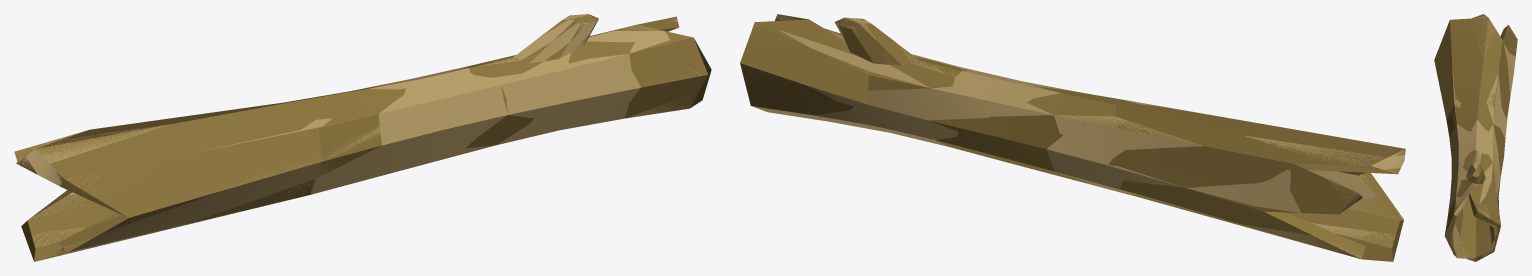
Rendered from wood.fbx.
3 views of the same model, side by side, from view 1: azimuth 30°, elevation 25°; view 2: azimuth 150°, elevation 25°; view 3: azimuth 270°, elevation 25° (orthographic). The views are drawn at different scales.
Parts seen in each view (by area): view 1: WOOD, TUNNEL; view 2: WOOD, TUNNEL; view 3: WOOD, TUNNEL.
Part boxes in pixels (x1,y1,x2,y2): WOOD: (14,14,711,261); TUNNEL: (15,14,707,256); WOOD: (740,16,1405,261); TUNNEL: (740,14,1405,261); WOOD: (1434,14,1517,261); TUNNEL: (1445,14,1515,259).
Bounding box in the file's own units: 834 × 138 × 151.
